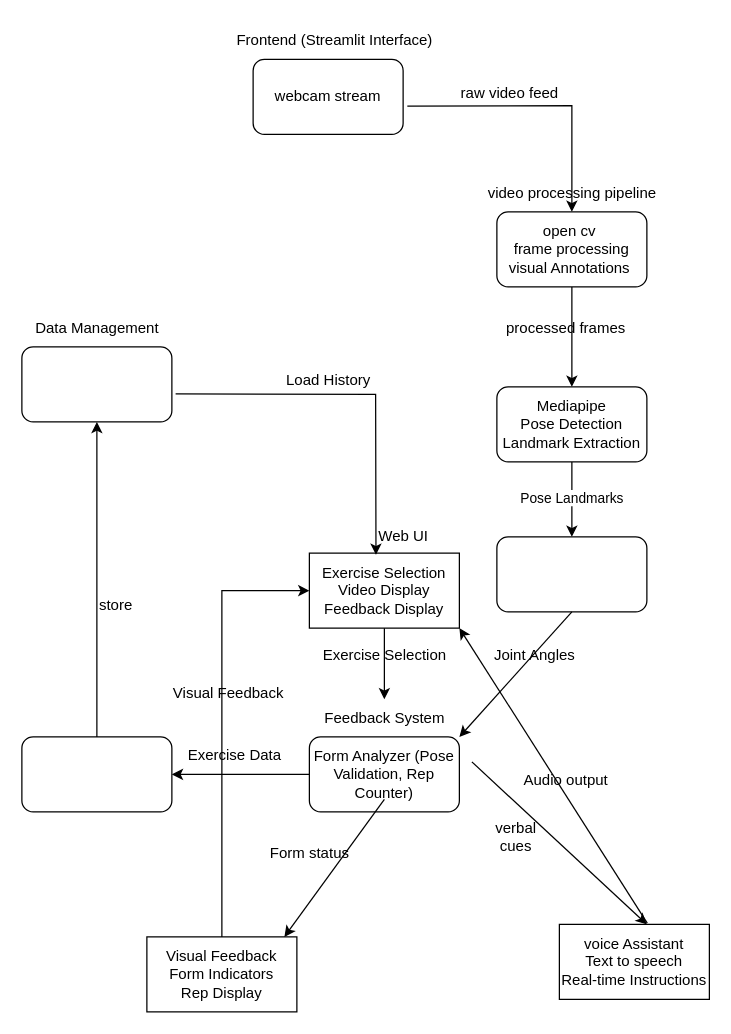
This 731x1034 diagram has some shape labels left out. The centre of each missing label's shape, as x and y in pixels:
"Angle Genarator Joint Angle Calculation" belongs at point 571,574.
"Data Processor (Performance Metrics, History Tracking)" belongs at point 96,774.
"Data Storage (CSV Files)" belongs at point 96,384.
